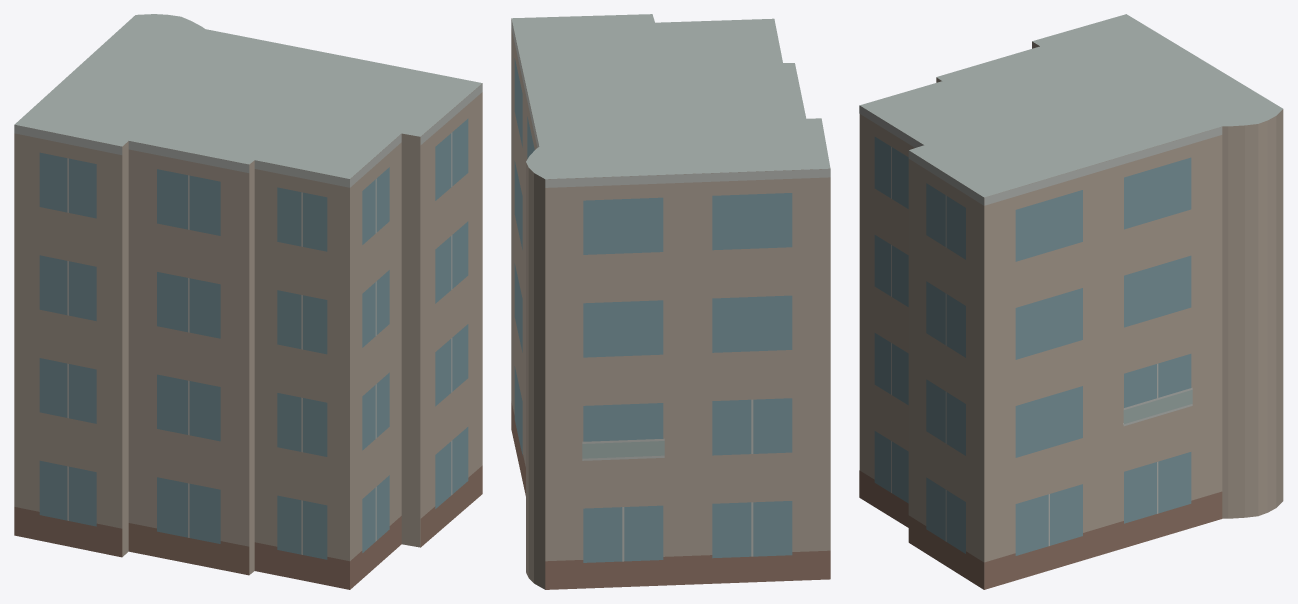
Rendered from survey-upis-32694066.glb.
3 renders of one model, left to right at view 1: azimuth 30°, elevation 25°; view 2: azimuth 150°, elevation 25°; view 3: azimuth 270°, elevation 25°, orthographic. The views are drawn at different scales.
Visible parts, largest first — view 1: survey-upis-32694066.tmp; view 2: survey-upis-32694066.tmp; view 3: survey-upis-32694066.tmp.
Part boxes in pixels (<box>): survey-upis-32694066.tmp: <box>14,14,482,589</box>; survey-upis-32694066.tmp: <box>511,14,830,589</box>; survey-upis-32694066.tmp: <box>859,14,1283,589</box>.
Size of the model in its own units: 11.55 by 11.5 by 11.27.
